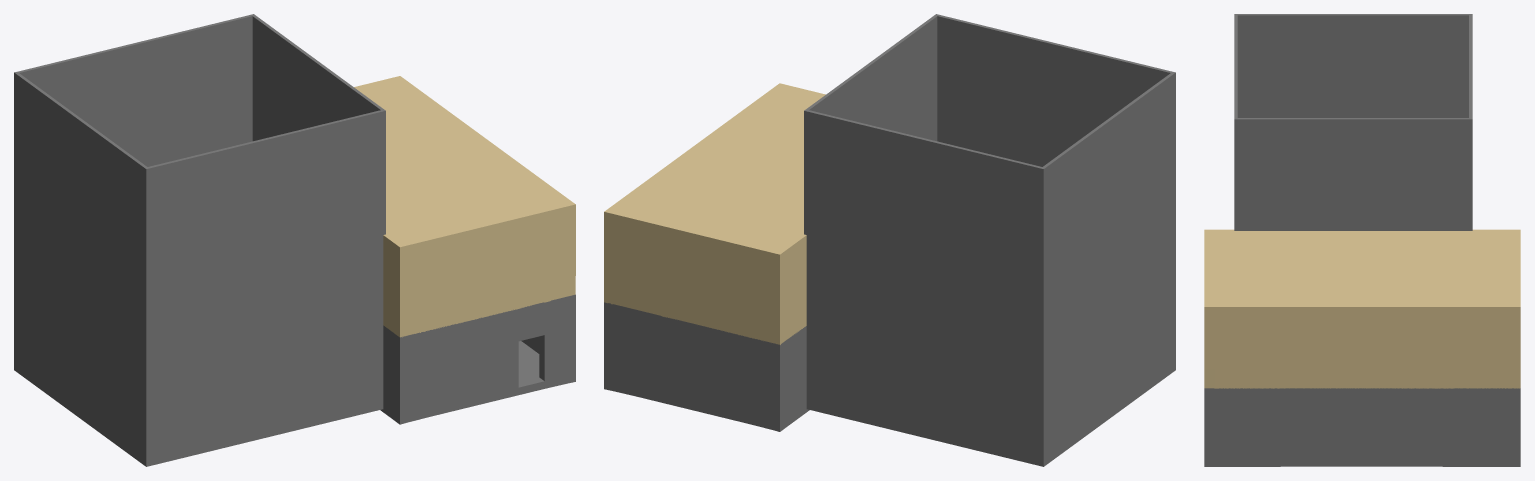
Rendered from tomb-test-model.obj.
3 renders of one model, left to right at view 1: azimuth 30°, elevation 25°; view 2: azimuth 150°, elevation 25°; view 3: azimuth 270°, elevation 25°, orthographic. The views are drawn at different scales.
Visible parts, largest first — view 1: frontRoom, rearRoom rearRoomCeiling, rearRoomBuilding rearRoom; view 2: frontRoom, rearRoom rearRoomCeiling, rearRoomBuilding rearRoom; view 3: frontRoom, rearRoom rearRoomCeiling, rearRoomBuilding rearRoom.
Part boxes in pixels (x1=…): frontRoom: x1=14, y1=14, x2=385, y2=466; rearRoom rearRoomCeiling: x1=354, y1=76, x2=575, y2=337; rearRoomBuilding rearRoom: x1=380, y1=294, x2=575, y2=424; frontRoom: x1=804, y1=14, x2=1175, y2=466; rearRoom rearRoomCeiling: x1=604, y1=83, x2=825, y2=344; rearRoomBuilding rearRoom: x1=604, y1=302, x2=809, y2=431; frontRoom: x1=1234, y1=14, x2=1472, y2=230; rearRoom rearRoomCeiling: x1=1204, y1=229, x2=1520, y2=388; rearRoomBuilding rearRoom: x1=1204, y1=388, x2=1520, y2=466.
Bounding box in the file's own units: 1.43 × 0.9945 × 1.05.
2 materials, 1 textured.
